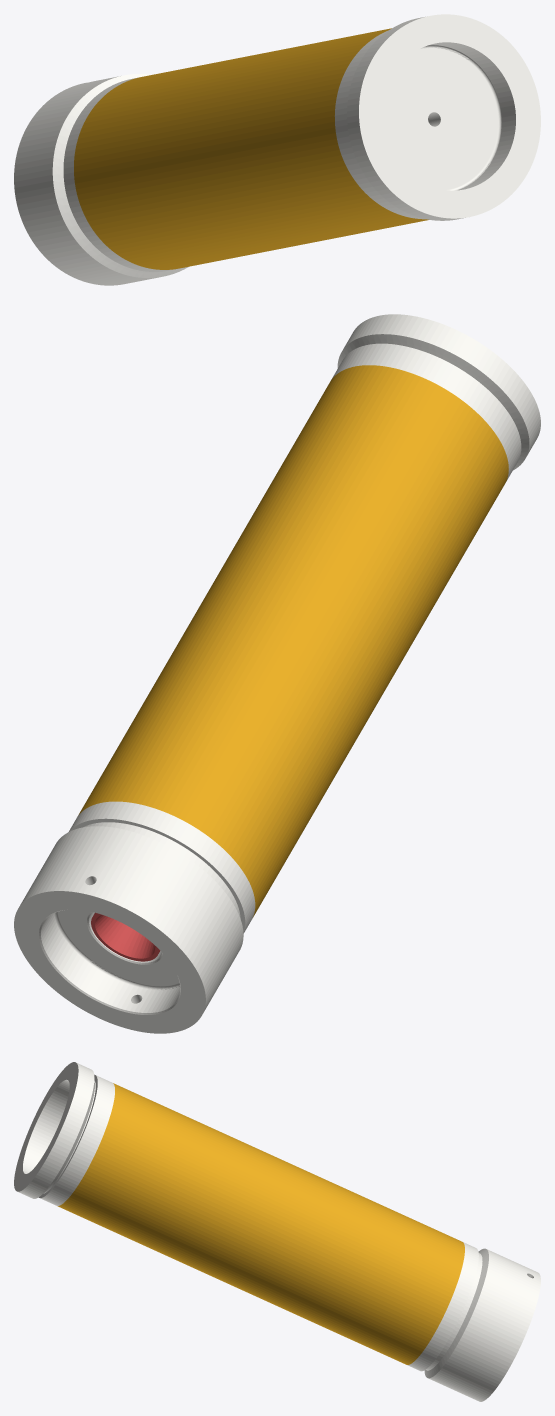
File: SR75_RATO.obj
3 renders of one model, top to bottom at view 1: azimuth 30°, elevation 25°; view 2: azimuth 150°, elevation 25°; view 3: azimuth 270°, elevation 25°, orthographic. The views are drawn at different scales.
Parts seen in each view (by area): view 1: RATO; view 2: RATO; view 3: RATO.
Part boxes in pixels (left/top/right/bottom): RATO: left=14, top=14, right=540, bottom=285; RATO: left=14, top=314, right=540, bottom=1033; RATO: left=14, top=1062, right=540, bottom=1401.
Bounding box in the file's own units: 0.0827 × 0.1988 × 0.2891.
